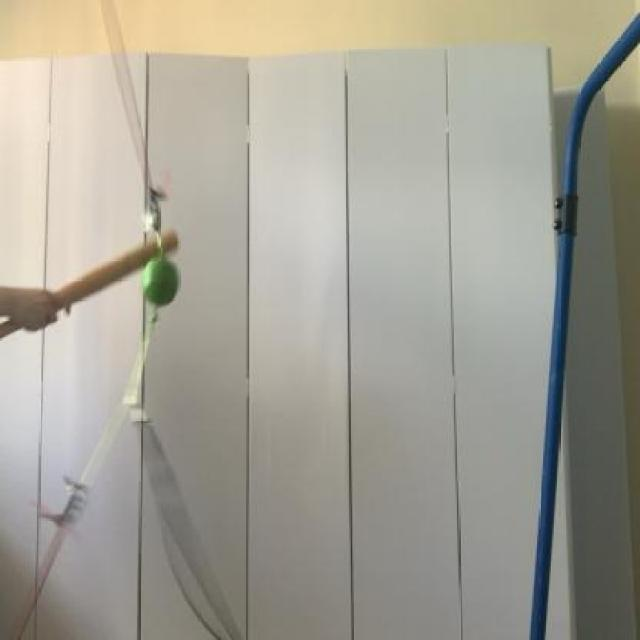baseball: (136, 244, 182, 318)
